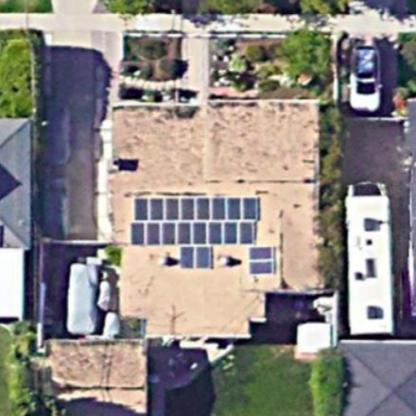car: (340, 171, 407, 345), (340, 37, 392, 121)
solar_panel: (122, 189, 286, 284)
